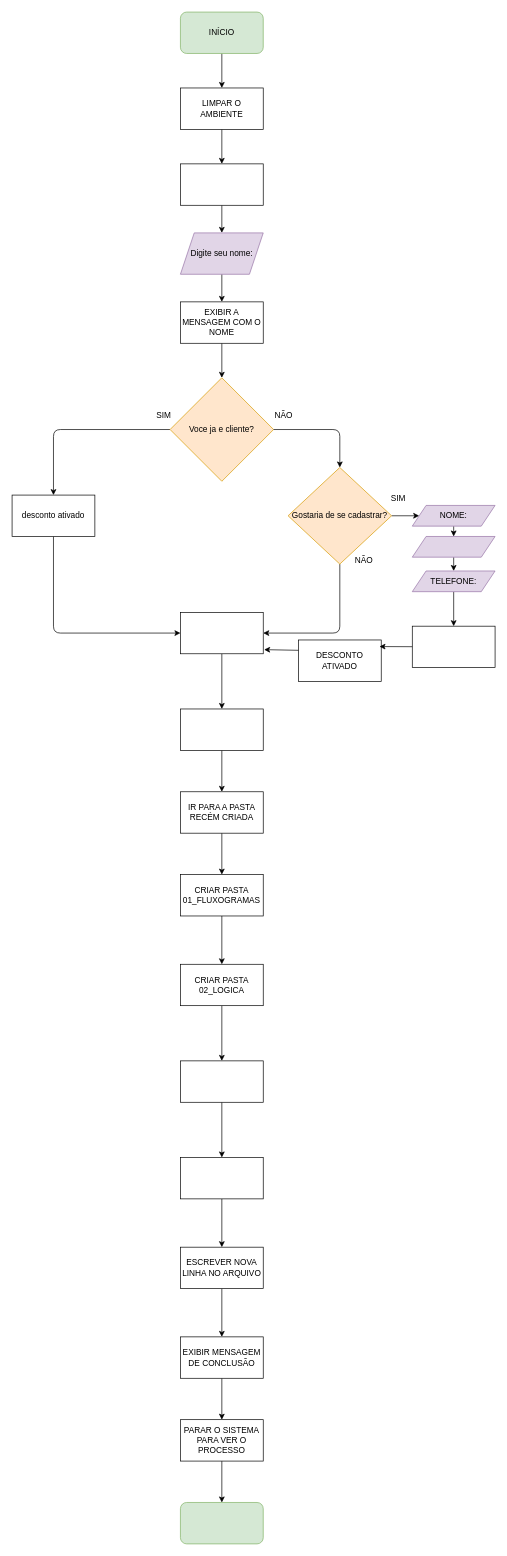
Image size: 507x1556. Some labels were removed from this diagram. The centre of each missing label's shape, as x and y in pixels:
"CRIAR ARQUIVO equipe.txt E ESCREVER" belongs at (221,1178).
"CRIAR PASTA 03_TESTES" belongs at (221,1081).
"CRIAR PASTA SA_BURGER_TECH" belongs at (221,729).
"E-MAIL:" belongs at (453,546).
"EXIBIR A MENSAGEM DE CRIAÇÃO DE PASTAS" belongs at (221,633).
"FIM" belongs at (221,1523).
"MUDAR A COR DAS LETRAS" belongs at (221,184).
"OBRIGADO POR SE CADASTRAR" belongs at (453,646).
